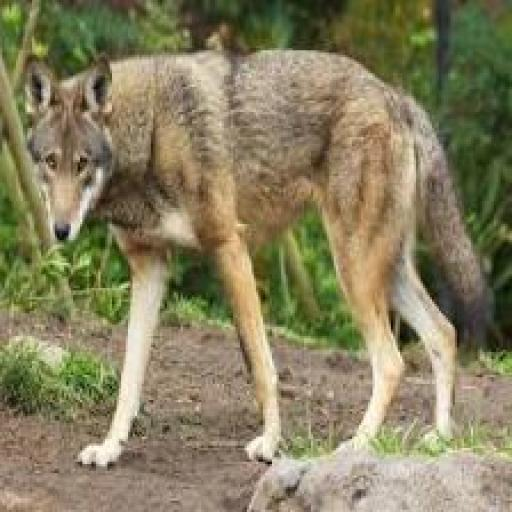wolf: (0, 39, 498, 496)
